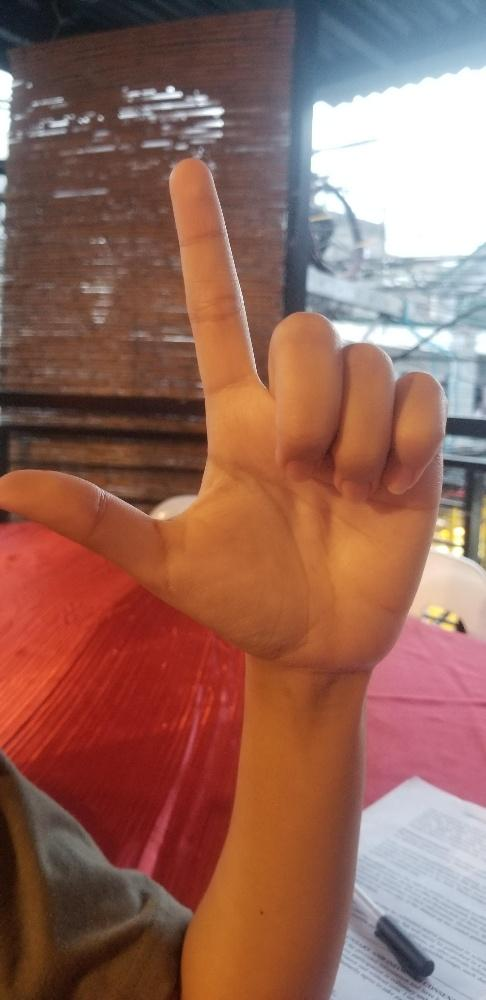l: (0, 154, 451, 669)
